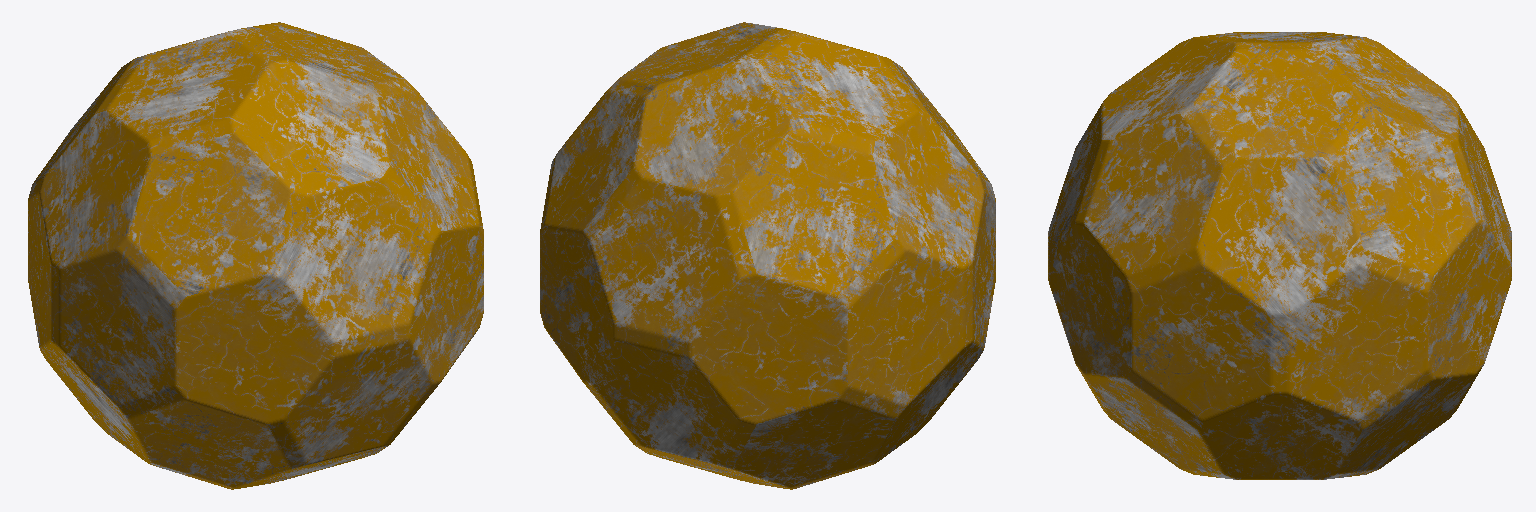
The picture shows the model from 3 angles: view 1: azimuth 30°, elevation 25°; view 2: azimuth 150°, elevation 25°; view 3: azimuth 270°, elevation 25°; orthographic projection.
Visible parts, largest first — view 1: default; view 2: default; view 3: default.
Boxes of the visible parts, box(x1,y1,x2,y2) form: default: box(28, 22, 483, 489); default: box(540, 22, 995, 489); default: box(1048, 32, 1511, 479).
Bounding box in the file's own units: 4.99 × 4.99 × 4.99.
1 materials, 1 textured.